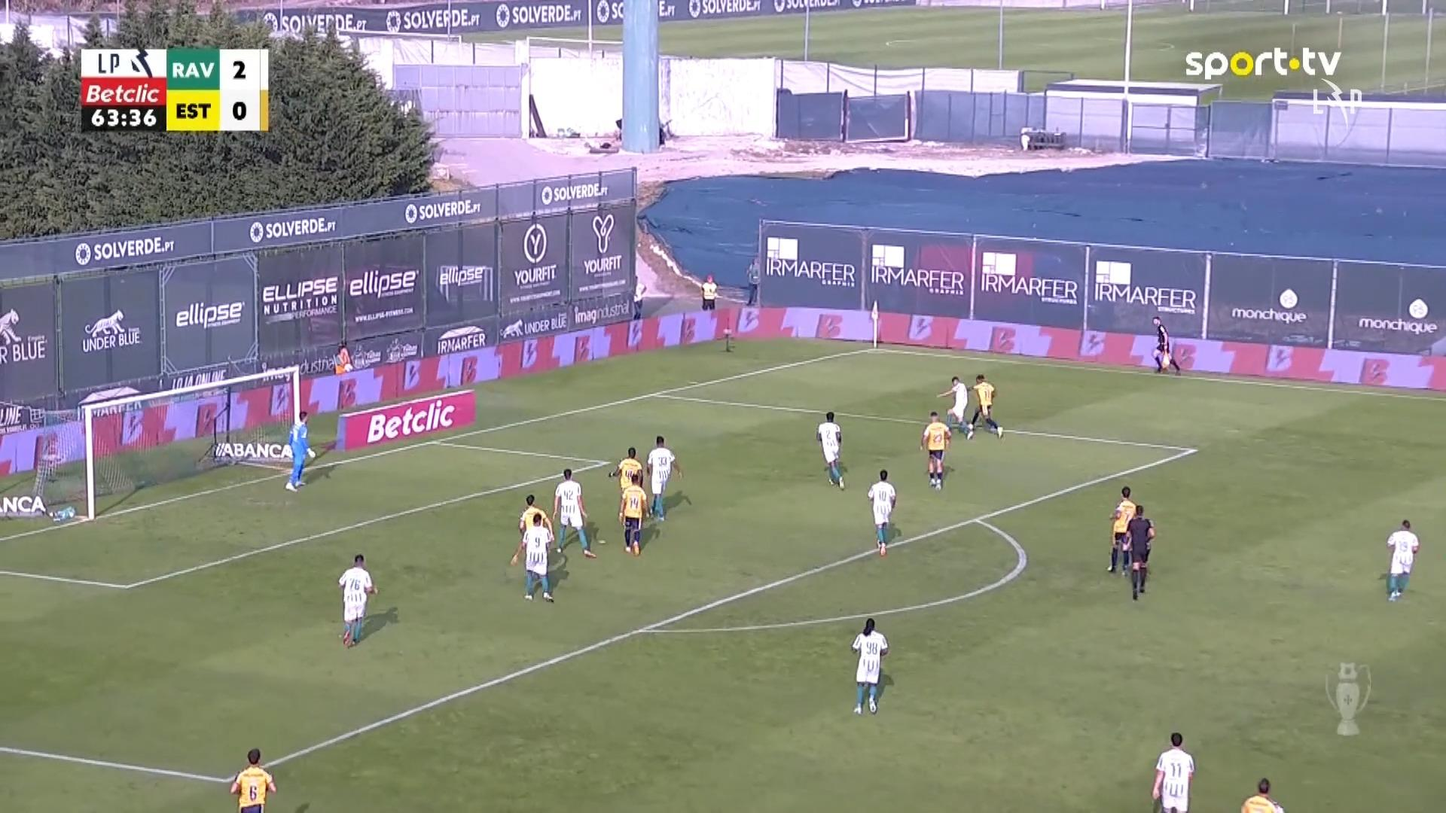goalkeeper: (284, 410, 316, 491)
player: (509, 510, 555, 601), (551, 467, 596, 557), (850, 617, 889, 714), (337, 553, 377, 647), (1151, 731, 1194, 811), (645, 434, 682, 522), (229, 747, 276, 811), (1385, 518, 1419, 600), (867, 468, 897, 556), (1107, 486, 1136, 575), (964, 373, 1003, 439), (618, 472, 649, 555), (920, 410, 951, 489), (816, 410, 846, 489), (935, 375, 971, 437), (517, 493, 552, 548), (609, 445, 643, 491), (1240, 776, 1284, 811)
referee: (1124, 503, 1155, 598), (1151, 315, 1180, 373)
